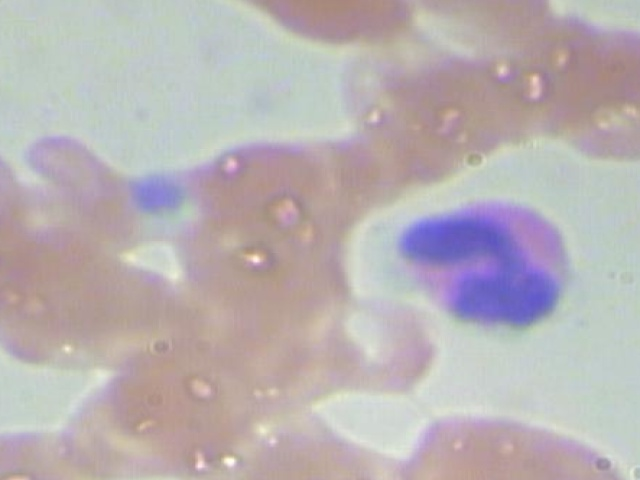Platelets: (123, 170, 197, 214)
RBC: (0, 221, 138, 374), (399, 404, 639, 480), (179, 134, 339, 236), (298, 291, 435, 406), (126, 332, 263, 447), (45, 367, 183, 480), (556, 8, 640, 164), (202, 0, 418, 51), (399, 0, 558, 60), (0, 412, 107, 480)
WBC: (373, 185, 609, 337)
